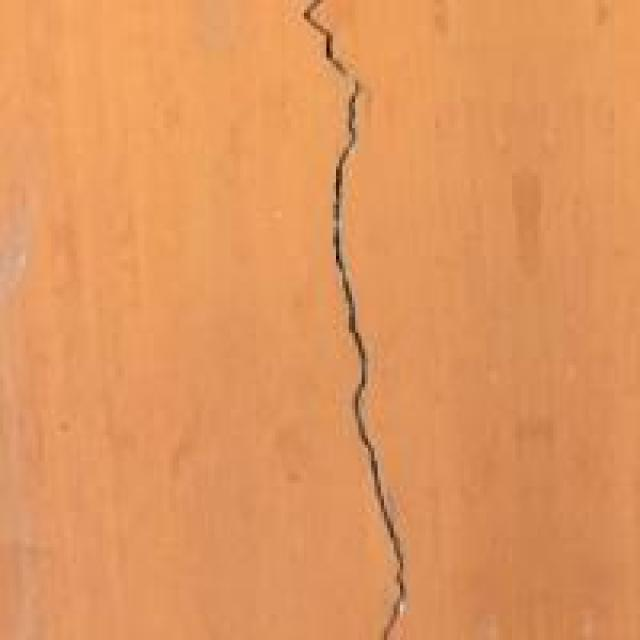Crack: (250, 3, 438, 637)
